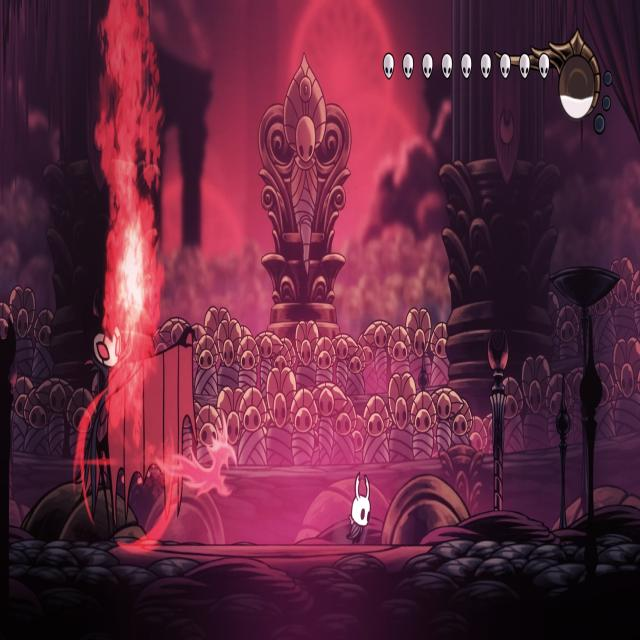Fire Bat: (153, 405, 239, 498)
Open Cloak: (63, 308, 199, 546)
Player: (344, 468, 372, 549)
